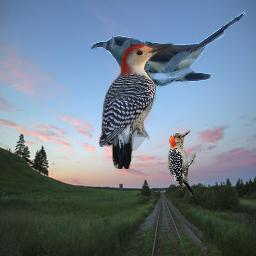Cuckoo: (91, 11, 250, 90)
Woodpecker: (99, 43, 173, 169), (166, 129, 196, 200)
